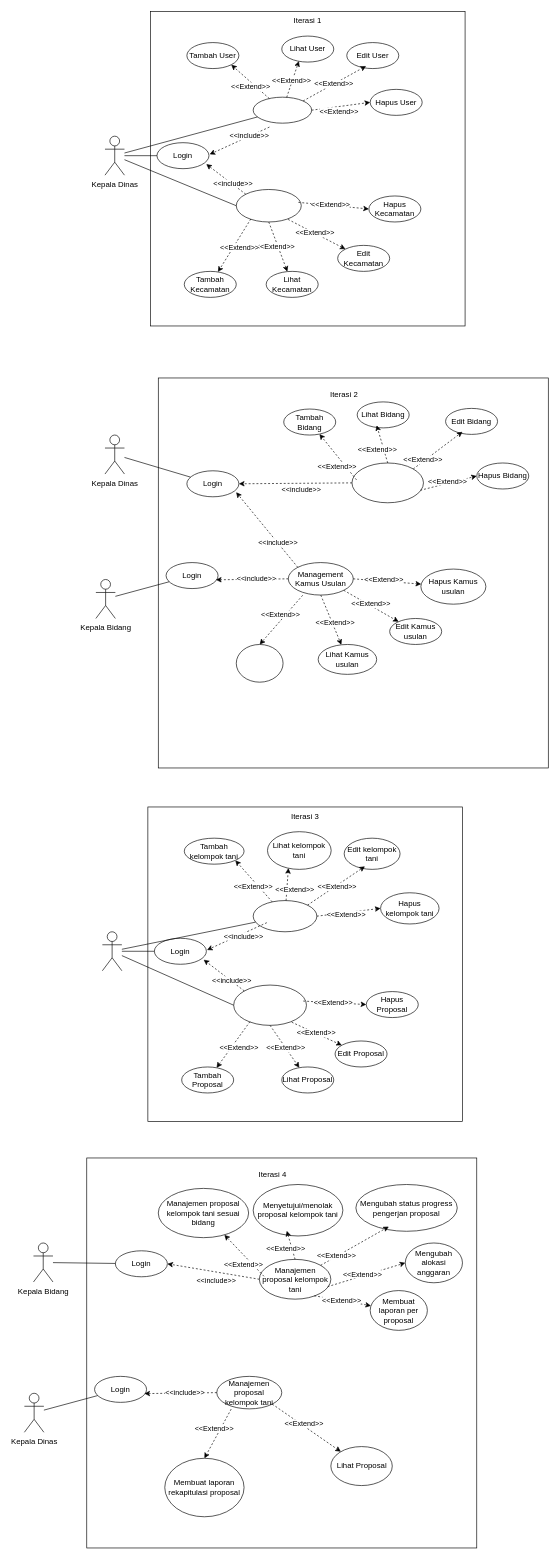
This 560x1559 diagram has some shape labels left out. The centre of each missing label's shape, as x and y in pixels:
Badan penyuluh: (112,951)
Management Kecamatan: (268,205)
Manajement bidang Pertanian: (387,482)
Manajement kelompok tani: (285,916)
Mengajukan proposal kelompok tani: (269,1004)
Pengaturan User: (282,110)
Tambah Kamus usulan: (259,663)
